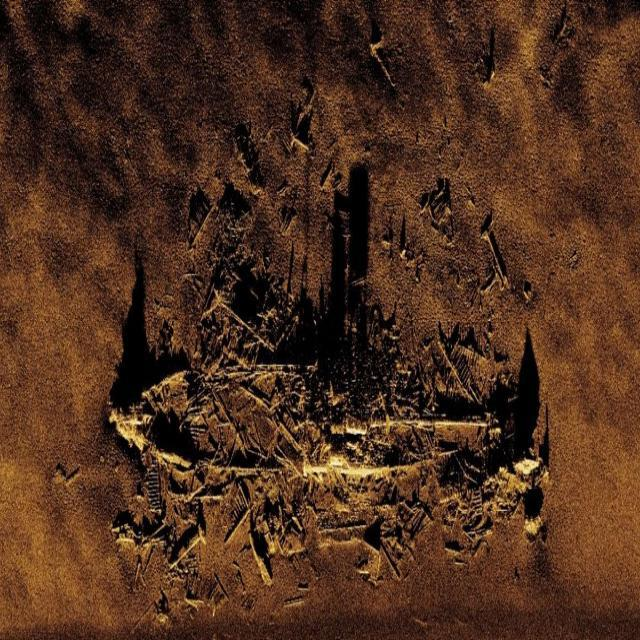shipwreck: (84, 276, 554, 600)
